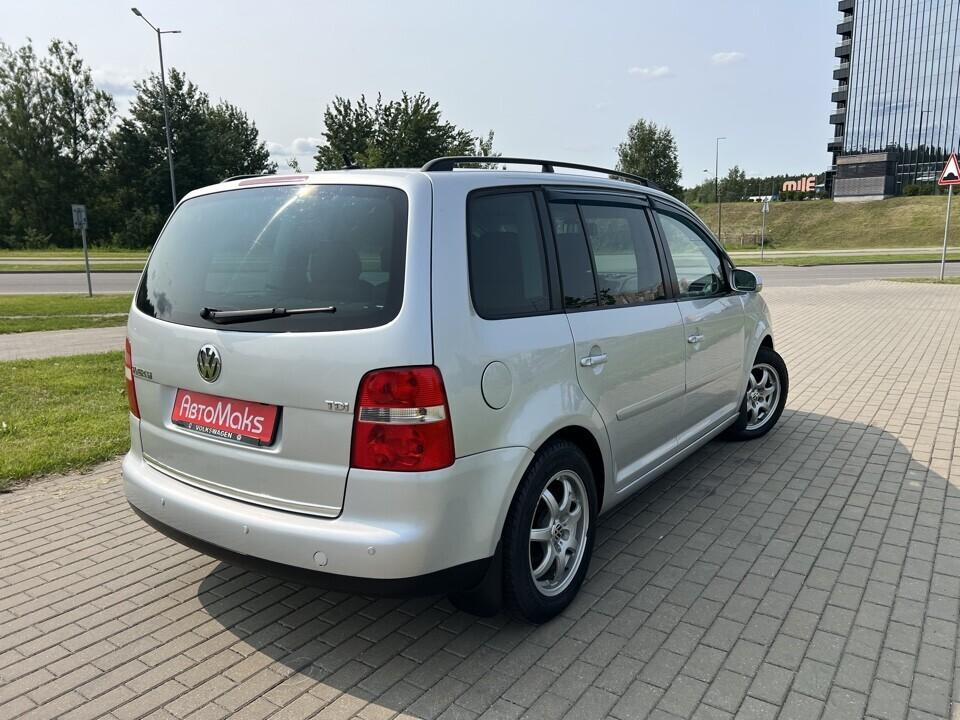Touran_2003-2006: (116, 163, 789, 614)
